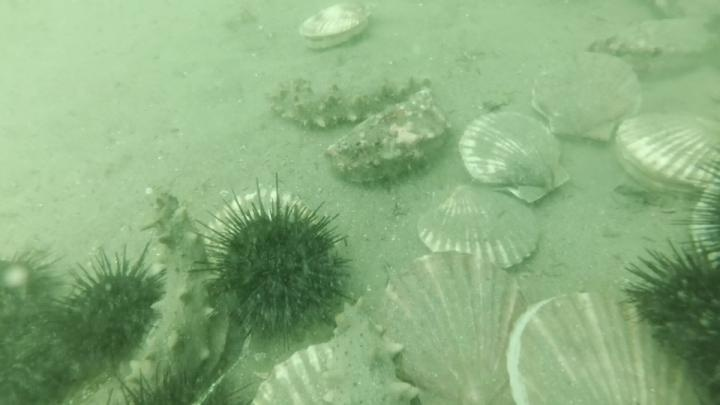echinus: (202, 183, 364, 355), (619, 234, 720, 394), (52, 244, 170, 371), (1, 284, 86, 404), (108, 345, 258, 404), (1, 239, 75, 317)
holothurian: (127, 182, 220, 381), (316, 298, 418, 404), (264, 68, 428, 132), (584, 31, 664, 64)
scallop: (364, 255, 552, 405), (501, 289, 706, 405), (243, 306, 417, 404), (412, 180, 543, 275), (454, 108, 571, 208), (527, 53, 647, 148), (610, 105, 720, 207), (244, 342, 360, 404), (592, 14, 718, 66), (296, 1, 377, 54), (686, 168, 720, 282)
